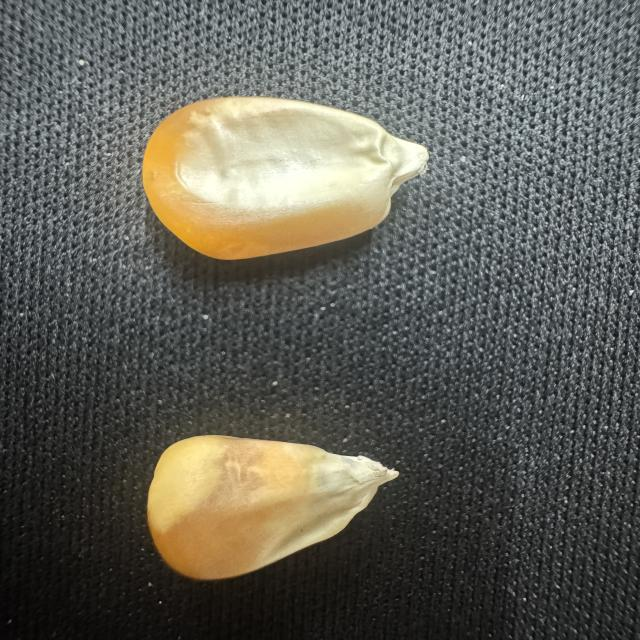Bad-Seed: (140, 424, 402, 586)
Good-Seed: (128, 90, 444, 270)
